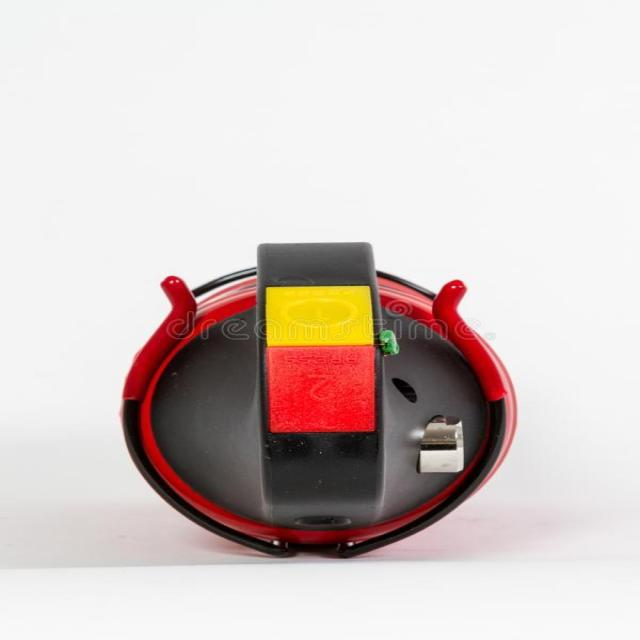fire_extinguisher: (115, 233, 526, 562)
